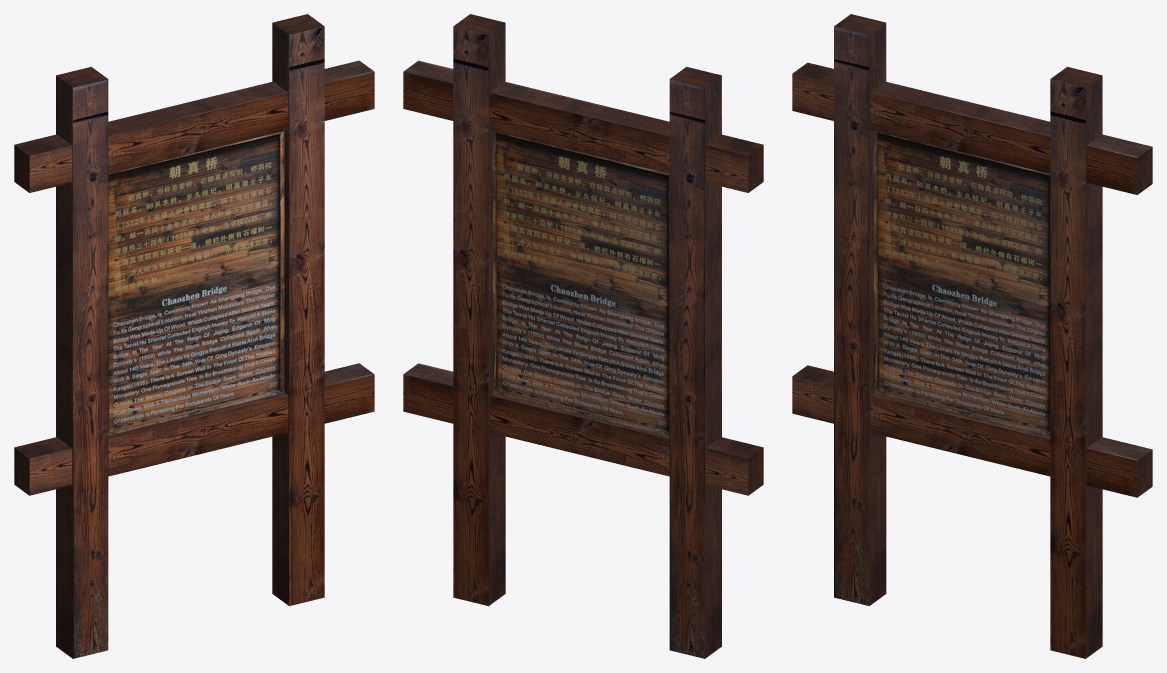
Rendered from Prop_RoadGuide11.FBX.
The picture shows the model from 3 angles, left to right: view 1: azimuth 30°, elevation 25°; view 2: azimuth 150°, elevation 25°; view 3: azimuth 330°, elevation 25°; orthographic projection.
Visible parts, largest first — view 1: Prop_RoadGuide11; view 2: Prop_RoadGuide11; view 3: Prop_RoadGuide11.
Boxes of the visible parts, <box> form: Prop_RoadGuide11: <box>14,14,374,658</box>; Prop_RoadGuide11: <box>403,14,763,658</box>; Prop_RoadGuide11: <box>792,14,1152,658</box>.
Bounding box in the file's own units: 112 × 9.57 × 178.
